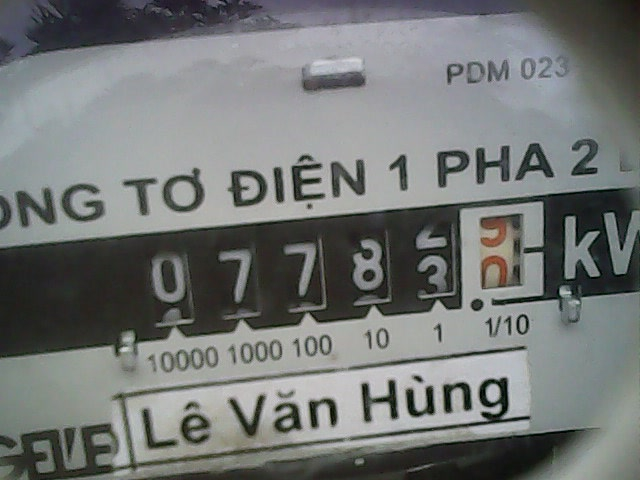phy_plate: (133, 193, 558, 330)
